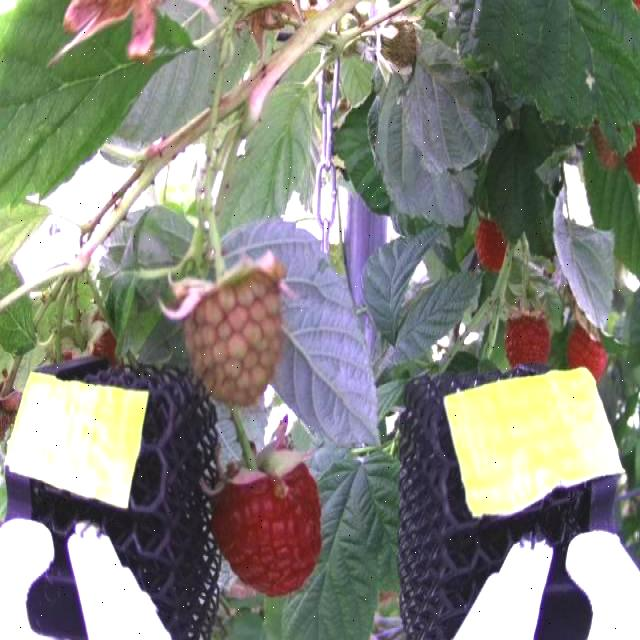Riped berries: (212, 444, 331, 592), (506, 305, 552, 368), (470, 212, 512, 268), (565, 316, 566, 317)
